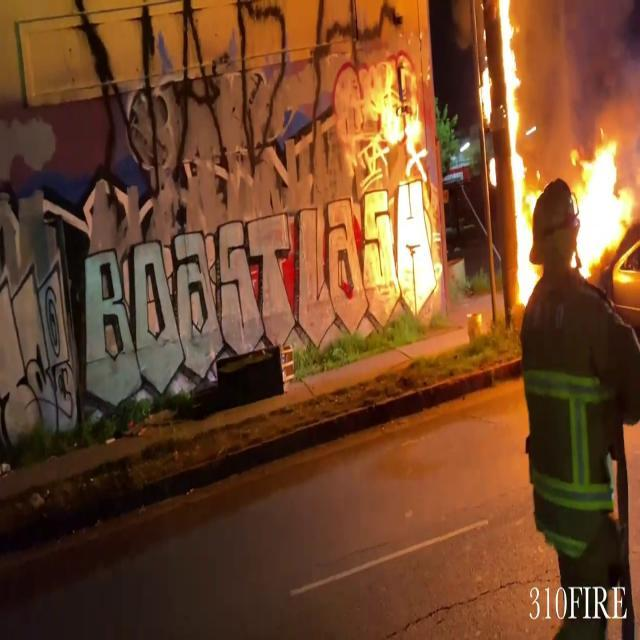Fire: (494, 0, 540, 308), (566, 130, 640, 274)
